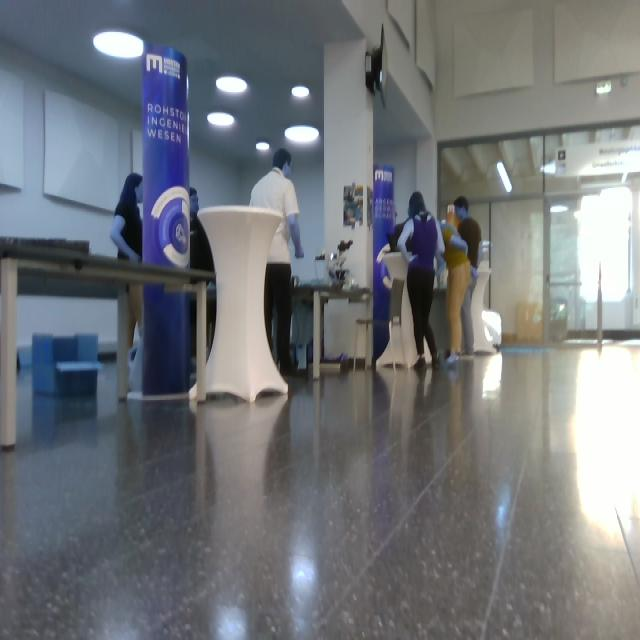door: (545, 186, 639, 344), (490, 197, 545, 345)
light bulb: (93, 29, 145, 60), (285, 125, 320, 144), (216, 76, 248, 94), (497, 161, 513, 193), (207, 112, 235, 128), (540, 160, 557, 174), (292, 85, 310, 98), (596, 81, 612, 94), (256, 141, 270, 150)
person: (250, 148, 305, 377), (397, 192, 446, 372), (110, 173, 144, 368)
pillar: (196, 205, 289, 404), (141, 44, 192, 400)
tiled floor: (1, 339, 639, 639)
